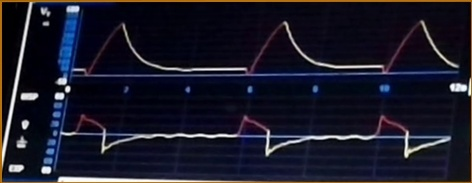Flow: (68, 107, 449, 172)
Leakage Volume: (76, 20, 457, 81)
